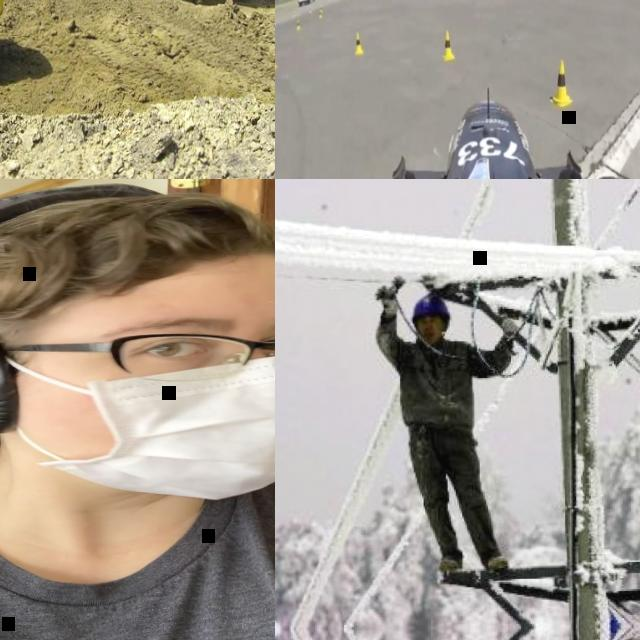Hardhat: (409, 294, 453, 326)
Mask: (0, 357, 275, 503)
NO-Hardhat: (0, 189, 275, 316)
NO-Mask: (418, 330, 442, 347)
NO-Safety Vest: (0, 494, 275, 640), (401, 344, 475, 433)
Person: (0, 185, 275, 640), (376, 288, 527, 573)
Safety Cone: (546, 59, 573, 110), (442, 31, 456, 65), (351, 33, 363, 55), (295, 18, 301, 34), (317, 7, 323, 20), (308, 5, 311, 15)
vehicle: (312, 88, 640, 179), (297, 0, 315, 6)
